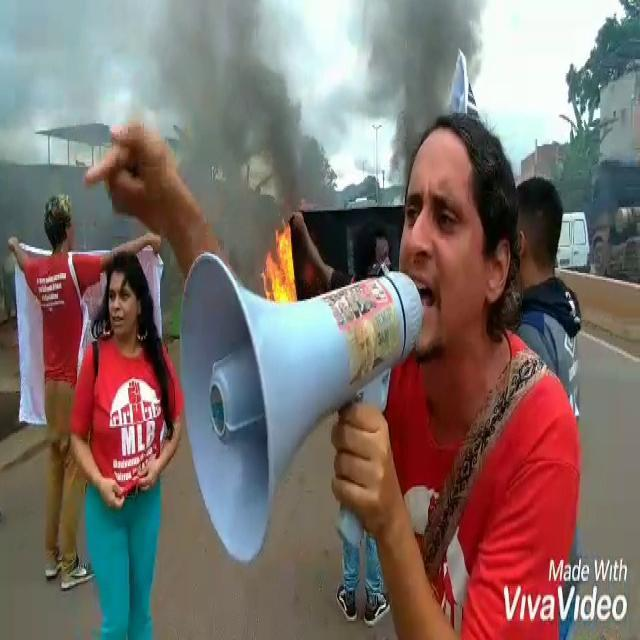Fire: (262, 229, 294, 294)
Smoke: (172, 7, 270, 156), (383, 0, 443, 96)
